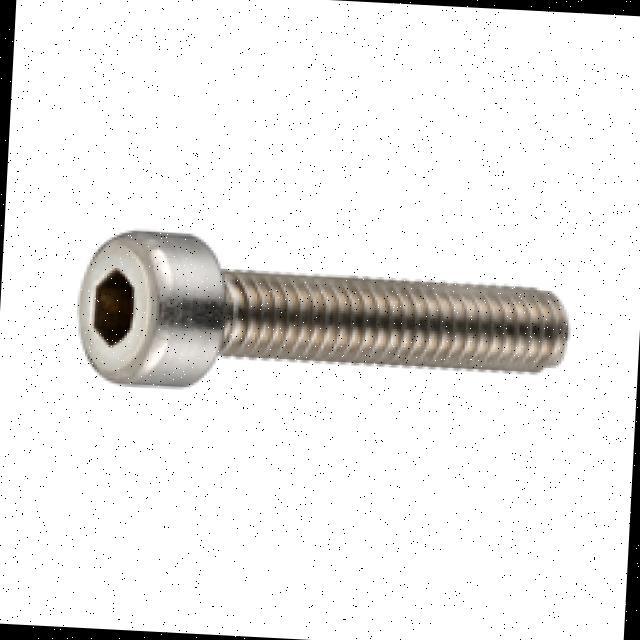Hex Socket Allen: (70, 228, 170, 386)
